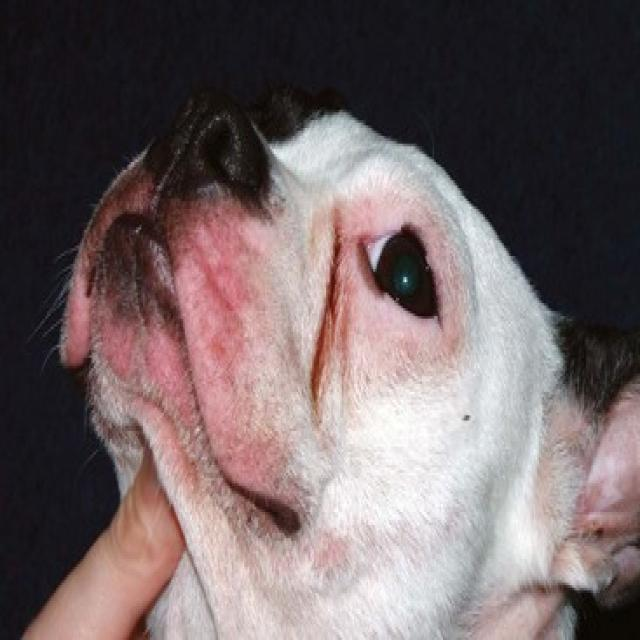qua man cho: (51, 94, 471, 529)
